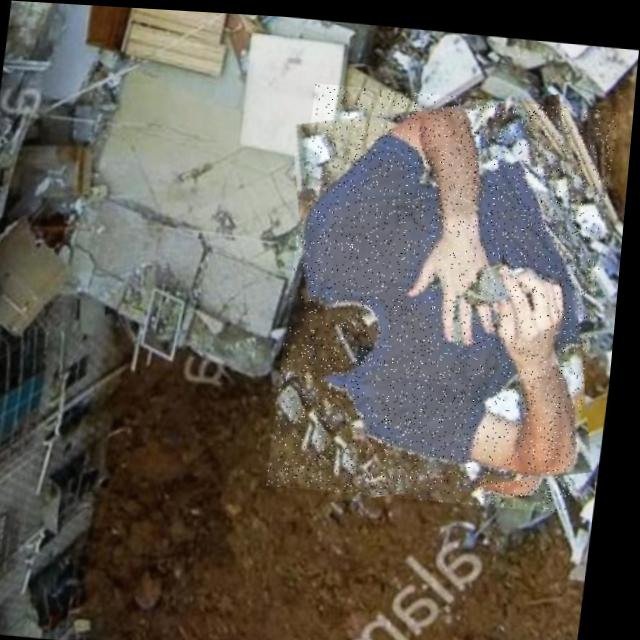Person in Rubble: (274, 77, 621, 505)
